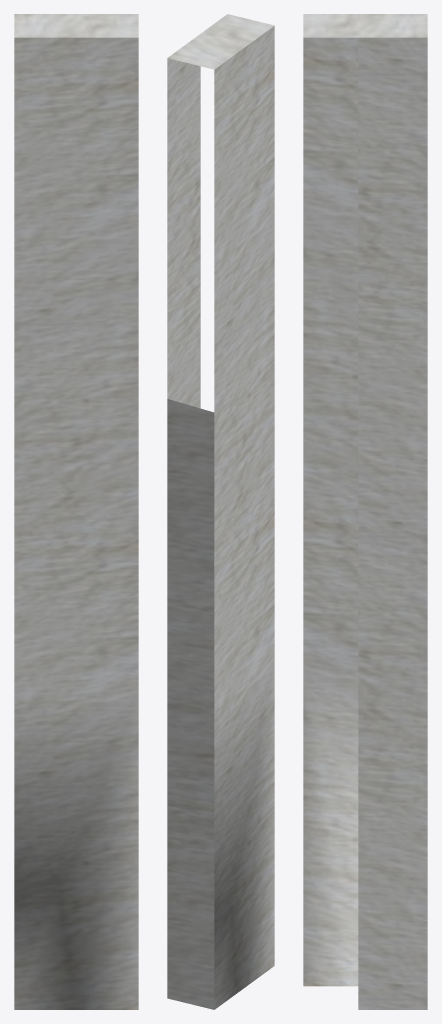
Rendered from wall_03.obj.
3 renders of one model, left to right at view 1: azimuth 90°, elevation 25°; view 2: azimuth 150°, elevation 25°; view 3: azimuth 270°, elevation 25°, orthographic. The views are drawn at different scales.
Visible parts, largest first — view 1: Cube.001; view 2: Cube.001; view 3: Cube.001.
Part boxes in pixels (<box>): Cube.001: <box>14,14,138,1009</box>; Cube.001: <box>167,14,274,1009</box>; Cube.001: <box>303,14,427,1009</box>.
Size of the model in its own units: 0.2693 by 5.13 by 0.5959.
Materials: 1 (1 with a texture image).
